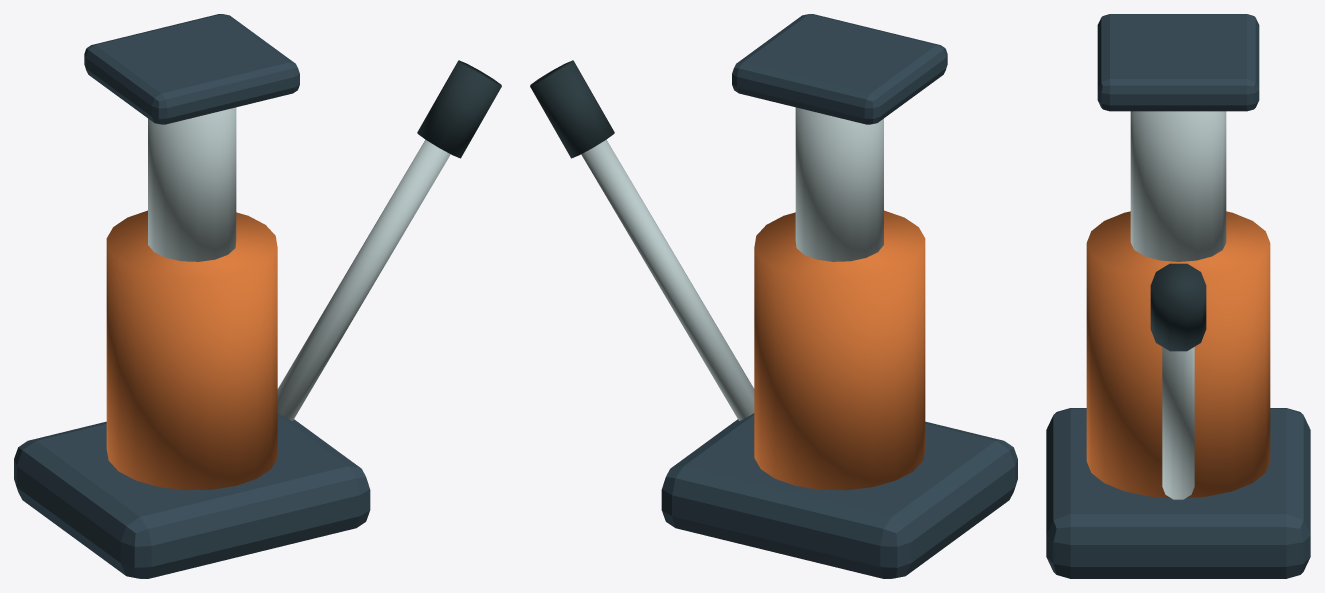
Rendered from jack.glb.
3 views of the same model, side by side, from view 1: azimuth 30°, elevation 25°; view 2: azimuth 150°, elevation 25°; view 3: azimuth 270°, elevation 25° (orthographic). The views are drawn at different scales.
Parts seen in each view (by area): view 1: tyaga-jack-surface, jack-piston-surface; view 2: tyaga-jack-surface, jack-piston-surface; view 3: tyaga-jack-surface, jack-piston-surface.
Part boxes in pixels (x1,y1,x2,y2): tyaga-jack-surface: (14, 60, 501, 578); jack-piston-surface: (84, 14, 299, 261); tyaga-jack-surface: (530, 60, 1017, 578); jack-piston-surface: (732, 14, 947, 261); tyaga-jack-surface: (1046, 211, 1310, 578); jack-piston-surface: (1097, 14, 1259, 261).
Bounding box in the file's own units: 0.7 × 0.72 × 0.36.
